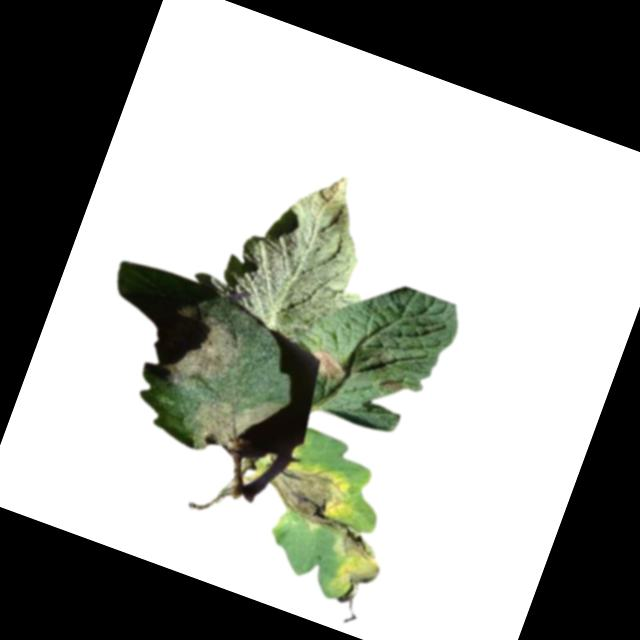Late_blight: (180, 376, 282, 473), (154, 302, 256, 398), (258, 451, 358, 534), (317, 521, 392, 612), (305, 345, 355, 385), (379, 373, 409, 398)
